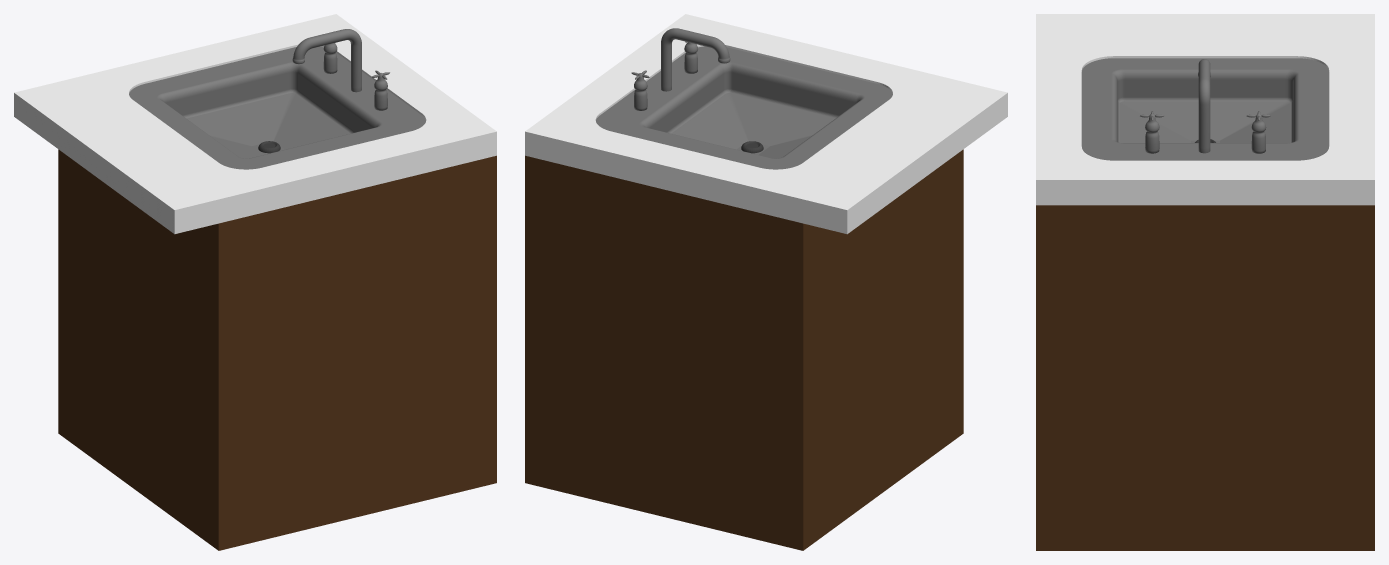
File: Counter 4.fbx
3 renders of one model, left to right at view 1: azimuth 30°, elevation 25°; view 2: azimuth 150°, elevation 25°; view 3: azimuth 270°, elevation 25°, orthographic. The views are drawn at different scales.
Visible parts, largest first — view 1: Counter 4, Faucet; view 2: Counter 4, Faucet; view 3: Counter 4, Faucet.
Part boxes in pixels (<box>): Counter 4: <box>14,14,496,550</box>; Faucet: <box>292,29,389,110</box>; Counter 4: <box>525,14,1007,550</box>; Faucet: <box>631,28,730,110</box>; Counter 4: <box>1036,14,1374,550</box>; Faucet: <box>1140,59,1270,153</box>.
Bounding box in the file's own units: 116 × 142 × 100.
